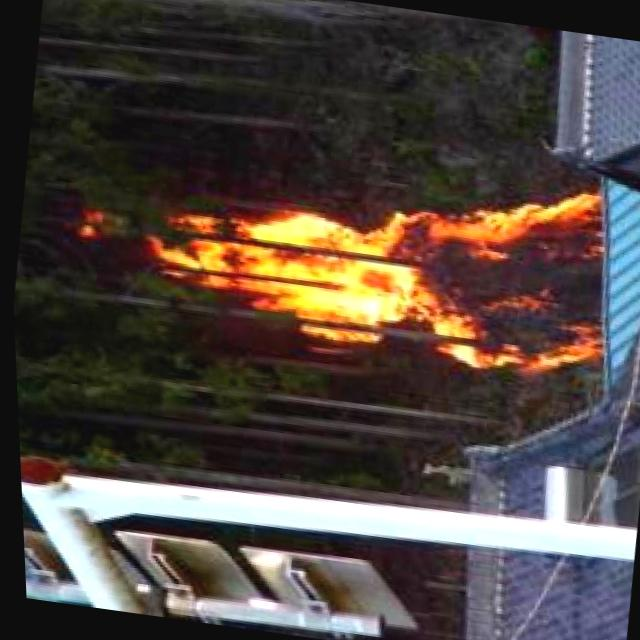Fire: (137, 130, 625, 390)
